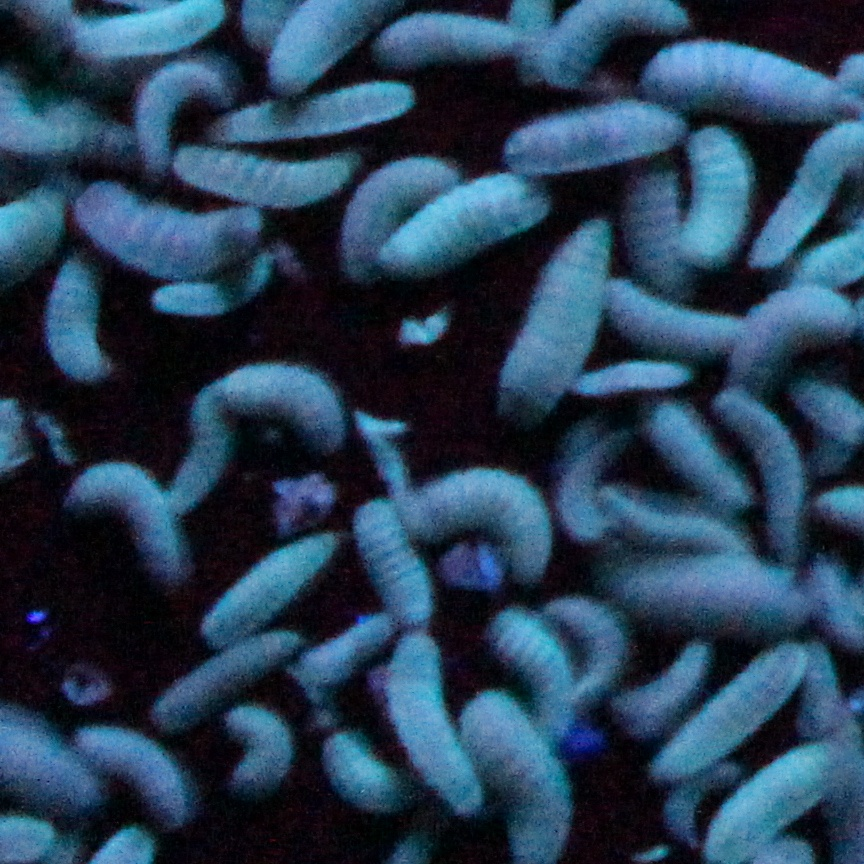larve: (487, 215, 613, 430), (640, 640, 810, 779), (457, 688, 576, 864), (589, 552, 817, 641), (376, 169, 552, 283), (379, 624, 479, 820), (72, 174, 262, 275), (703, 739, 856, 864), (400, 465, 556, 585), (502, 98, 705, 186), (342, 158, 476, 289), (200, 530, 342, 646), (715, 388, 803, 571), (149, 628, 299, 735), (199, 82, 426, 152), (598, 474, 763, 568), (63, 461, 183, 589), (729, 284, 862, 393), (133, 54, 232, 198), (638, 395, 752, 515), (596, 274, 753, 360), (486, 609, 579, 746), (350, 498, 445, 629), (675, 123, 756, 274), (76, 723, 193, 826), (225, 363, 350, 458), (602, 635, 716, 739), (1, 699, 103, 812), (172, 148, 358, 208), (162, 383, 236, 524), (372, 4, 523, 73), (149, 251, 282, 324), (38, 86, 150, 171), (322, 730, 430, 815), (45, 255, 115, 382), (626, 163, 690, 301), (548, 420, 619, 543), (553, 595, 629, 701), (1, 174, 68, 294), (217, 700, 296, 798), (296, 615, 390, 695), (1, 72, 82, 158), (792, 633, 849, 733), (574, 358, 697, 401)
